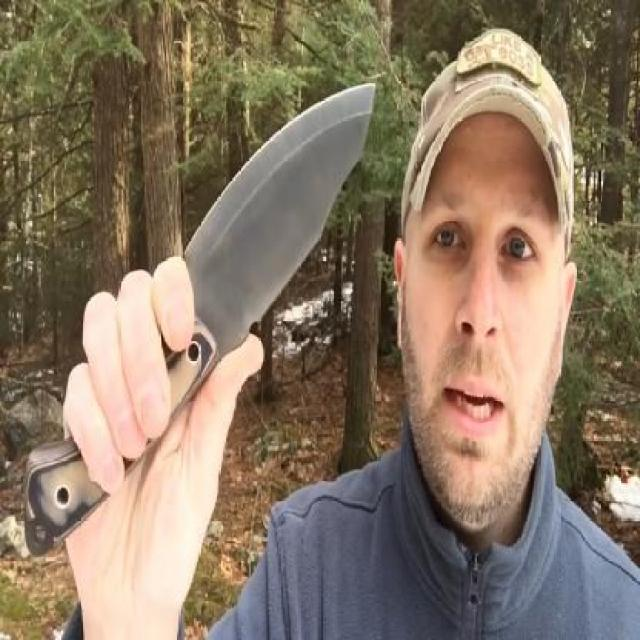knife: (108, 78, 383, 460)
